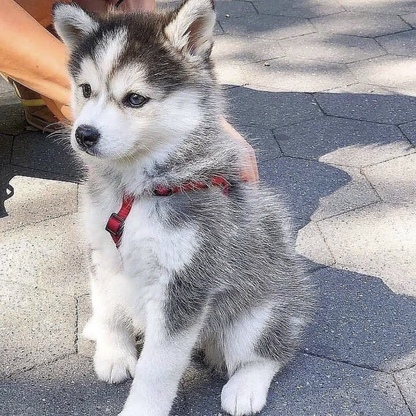husky: (45, 1, 318, 416)
